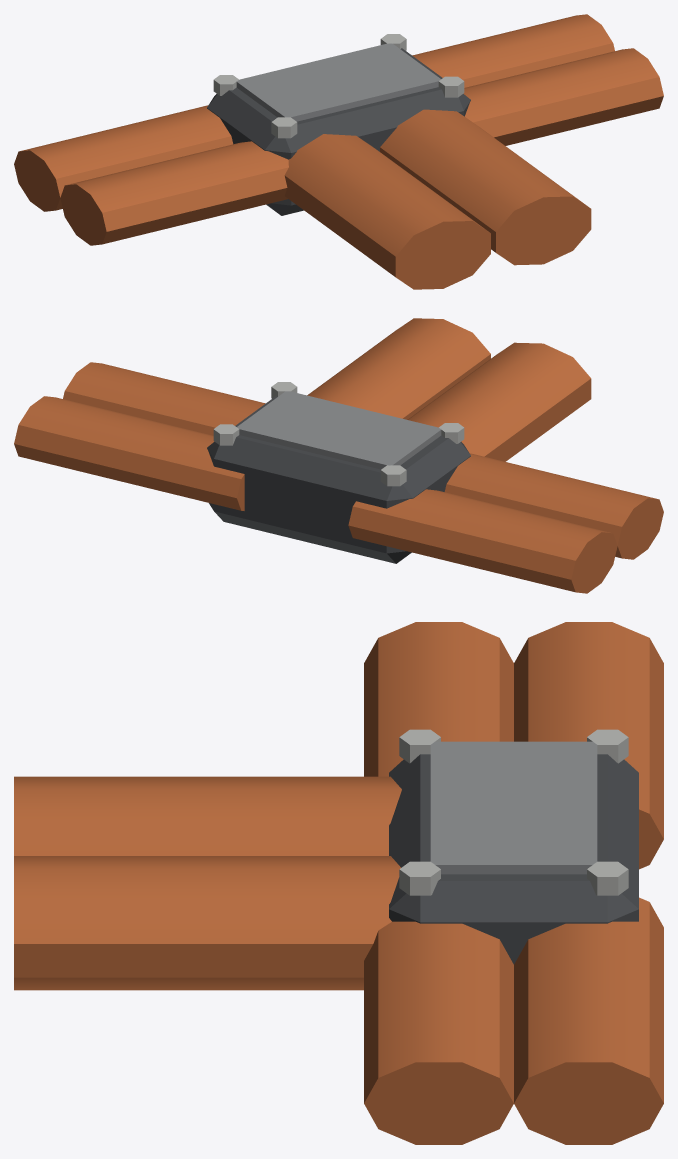
The model's file is heat-pipe-t-down.glb.
The picture shows the model from 3 angles, top to bottom: view 1: azimuth 30°, elevation 25°; view 2: azimuth 150°, elevation 25°; view 3: azimuth 270°, elevation 25°; orthographic projection. The views are drawn at different scales.
Visible parts, largest first — view 1: body; view 2: body; view 3: body.
Boxes of the visible parts, <box> form: body: <box>14,14,663,289</box>; body: <box>14,318,663,593</box>; body: <box>14,622,663,1144</box>.
Bounding box in the file's own units: 1 × 0.16 × 0.624.
